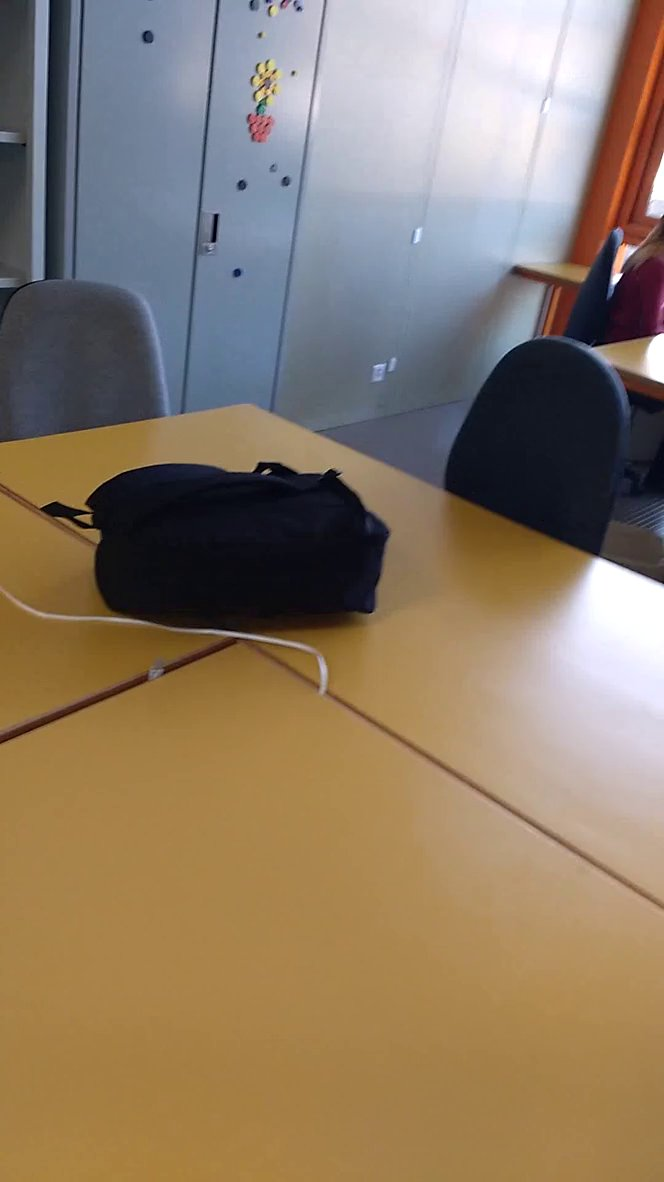bag: (38, 440, 433, 658)
chair: (440, 318, 638, 591), (1, 262, 191, 446)
